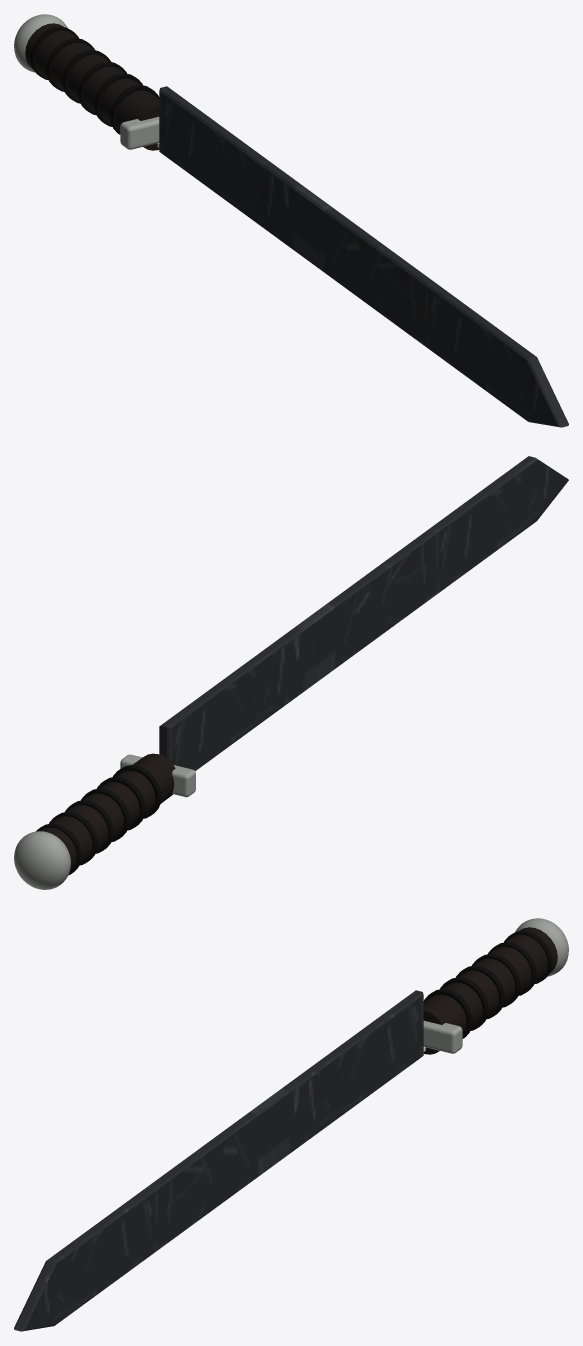
Rendered from 11-machette.glb.
The picture shows the model from 3 angles, top to bottom: view 1: azimuth 30°, elevation 25°; view 2: azimuth 150°, elevation 25°; view 3: azimuth 330°, elevation 25°; orthographic projection.
Size of the model in its own units: 0.05 by 0.0503 by 0.6688.
Materials: 5 (1 with a texture image).
